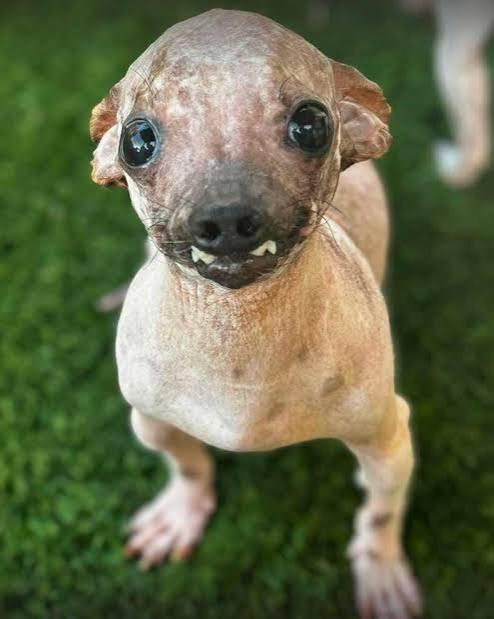adult_dog: (88, 7, 425, 619)
